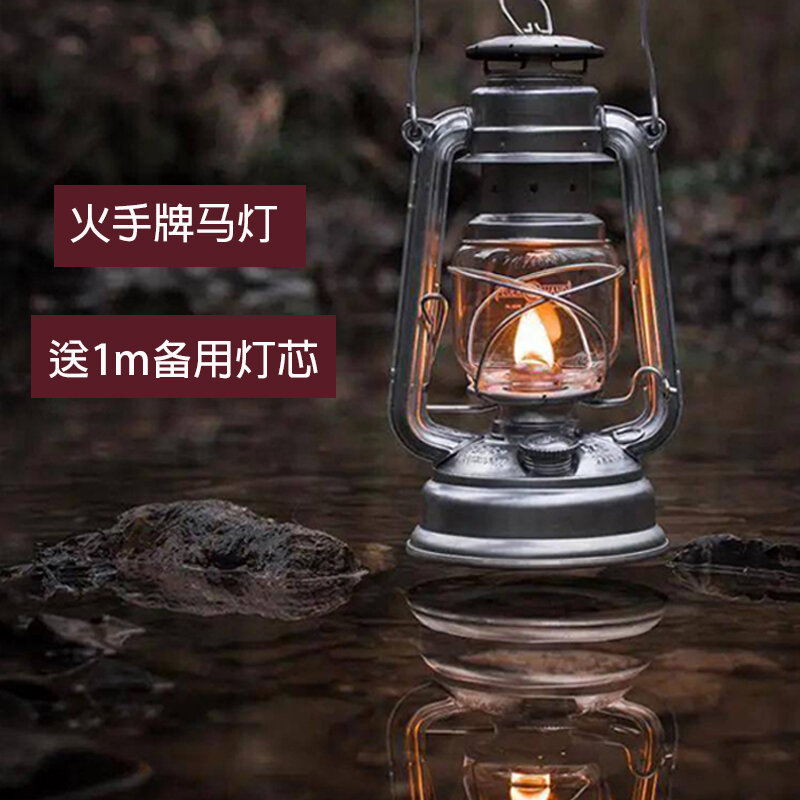Open-Flame-Hazard: (387, 8, 687, 576)
